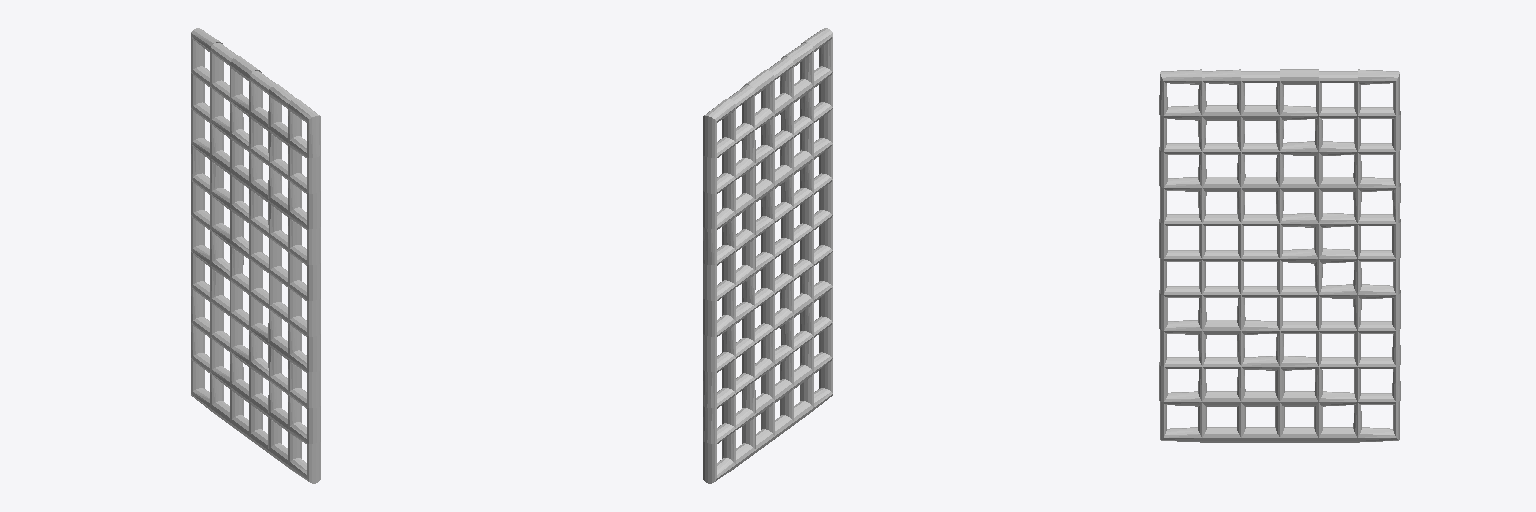
Rendered from GridSketches.obj.
The picture shows the model from 3 angles: view 1: azimuth 30°, elevation 25°; view 2: azimuth 150°, elevation 25°; view 3: azimuth 270°, elevation 25°; orthographic projection.
Visible parts, largest first — view 1: Grid; view 2: Grid; view 3: Grid.
Part boxes in pixels (left/top/right/bottom): Grid: left=191, top=28, right=320, bottom=483; Grid: left=703, top=28, right=832, bottom=483; Grid: left=1159, top=69, right=1400, bottom=442.
Size of the model in its own units: 0.04 by 1.04 by 0.6141.